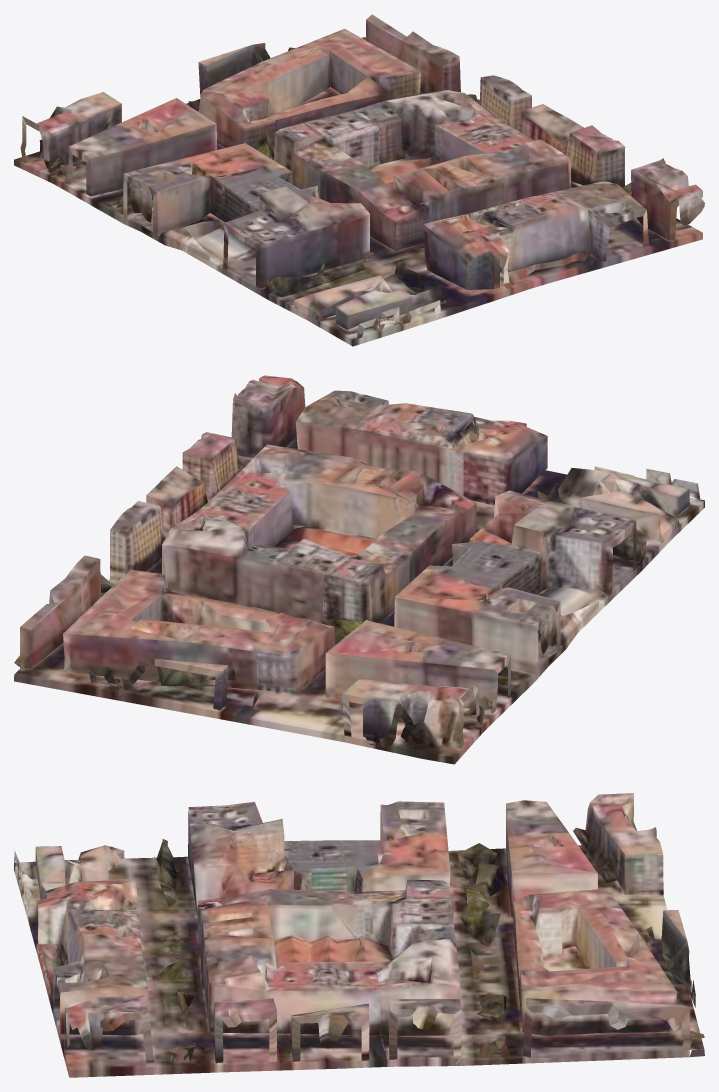
3 views of the same model, one above another, from view 1: azimuth 30°, elevation 25°; view 2: azimuth 150°, elevation 25°; view 3: azimuth 270°, elevation 25° (orthographic). The views are drawn at different scales.
Parts seen in each view (by area): view 1: Mesh_0; view 2: Mesh_0; view 3: Mesh_0.
Boxes of the visible parts, bbox=[...] form: Mesh_0: bbox=[14, 14, 704, 346]; Mesh_0: bbox=[14, 375, 704, 764]; Mesh_0: bbox=[14, 793, 704, 1077].
Bounding box in the file's own units: 268 × 42.45 × 330.
Materials: 2 (2 with a texture image).
